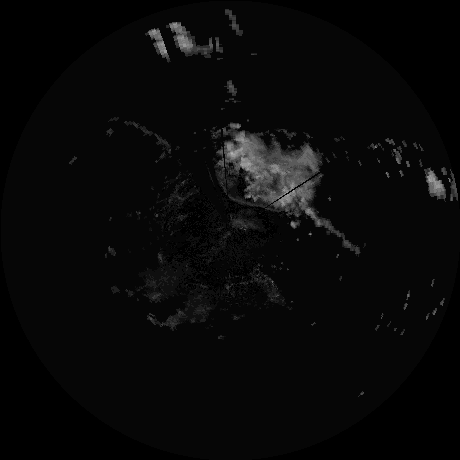frontgust: (217, 172, 280, 211)
